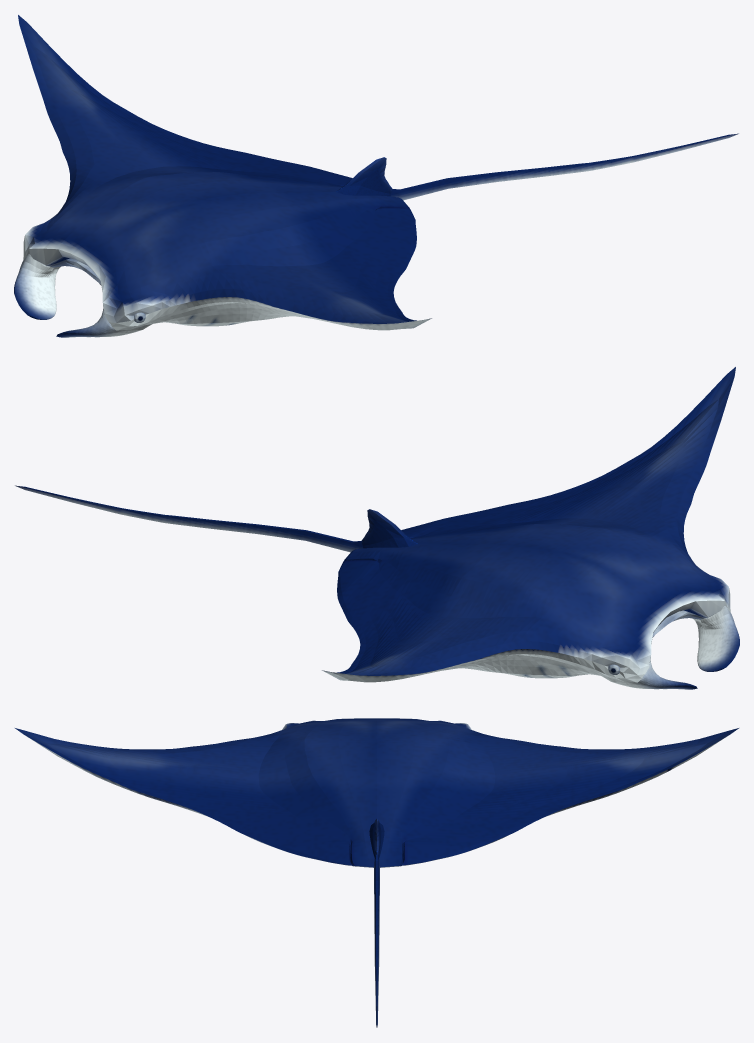
File: MantaRay.FBX
3 renders of one model, top to bottom at view 1: azimuth 30°, elevation 25°; view 2: azimuth 150°, elevation 25°; view 3: azimuth 270°, elevation 25°, orthographic. The views are drawn at different scales.
Visible parts, largest first — view 1: www.cadnav.com; view 2: www.cadnav.com; view 3: www.cadnav.com.
Boxes of the visible parts, box(x1,y1,x2,y2) form: www.cadnav.com: box(14, 15, 738, 337); www.cadnav.com: box(15, 367, 739, 689); www.cadnav.com: box(15, 718, 738, 1027).
Bounding box in the file's own units: 40.09 × 6.63 × 41.11.
